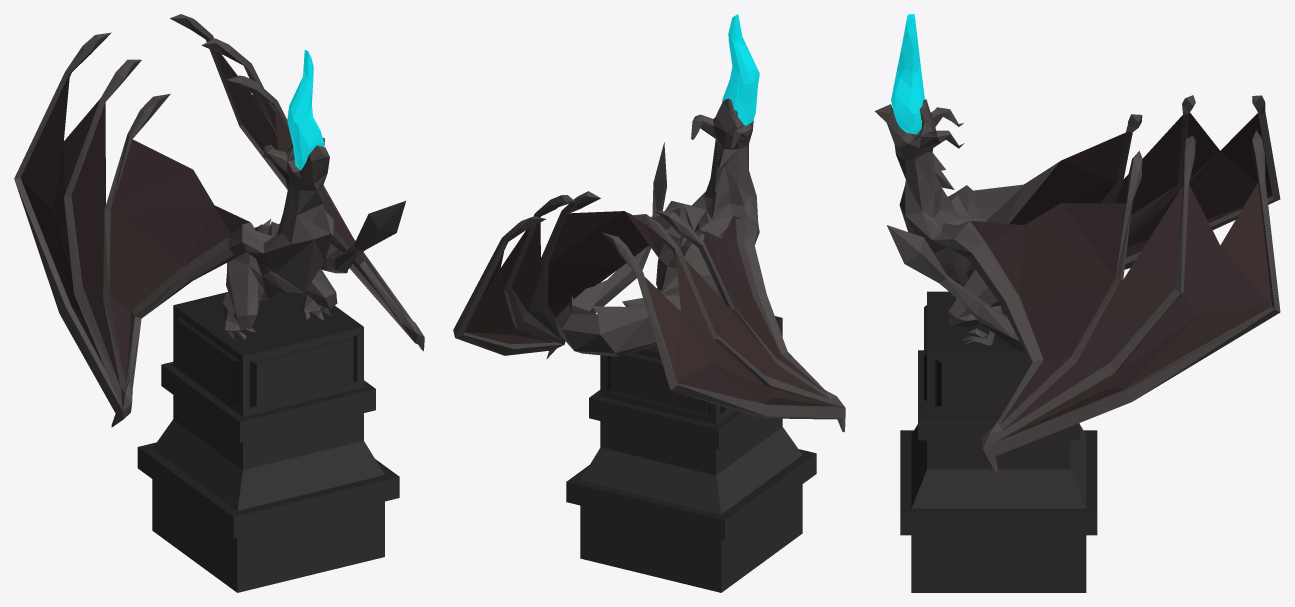
The model's file is Statue_02.glb.
The picture shows the model from 3 angles, left to right: view 1: azimuth 30°, elevation 25°; view 2: azimuth 150°, elevation 25°; view 3: azimuth 270°, elevation 25°; orthographic projection. The views are drawn at different scales.
Visible parts, largest first — view 1: Statue_02; view 2: Statue_02; view 3: Statue_02.
Boxes of the visible parts, left/top/right/bottom form: Statue_02: left=14, top=14, right=424, bottom=592; Statue_02: left=453, top=14, right=845, bottom=592; Statue_02: left=874, top=14, right=1280, bottom=592.
Size of what is drawn, in the model's own units: 2.42 by 3.89 by 2.66.
Materials: 2 (2 with a texture image).
